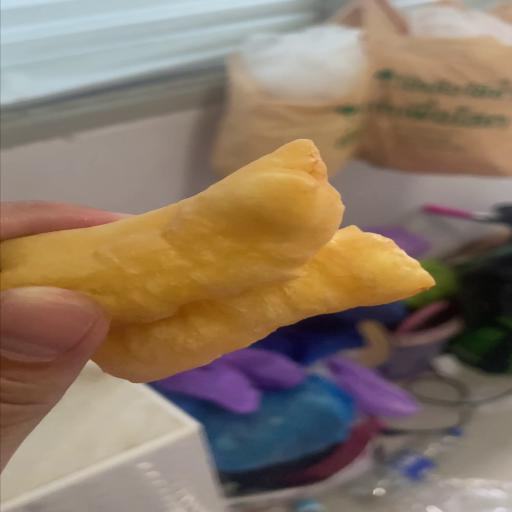street_golden_good: (1, 140, 434, 382)
